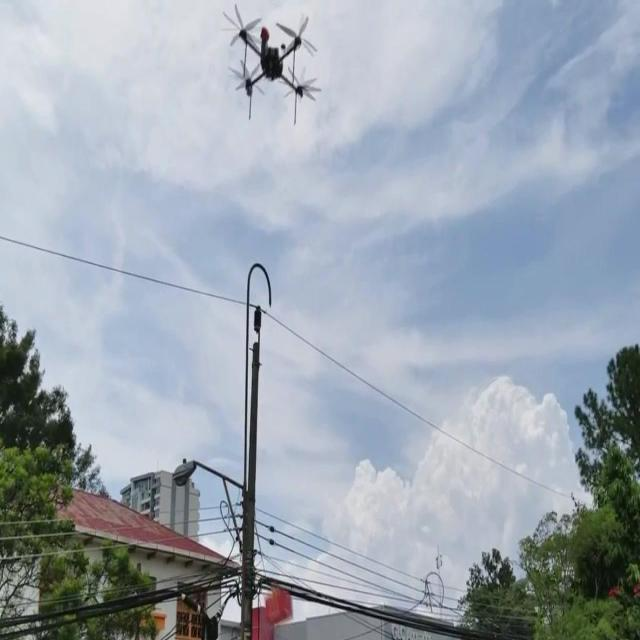drone: (225, 4, 323, 130)
